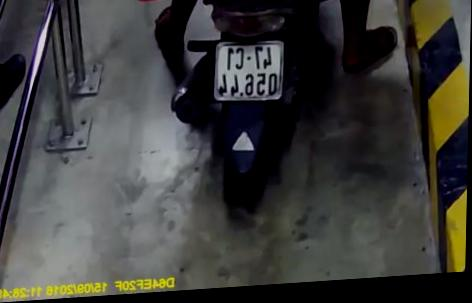License_Plate: (204, 34, 291, 110)
